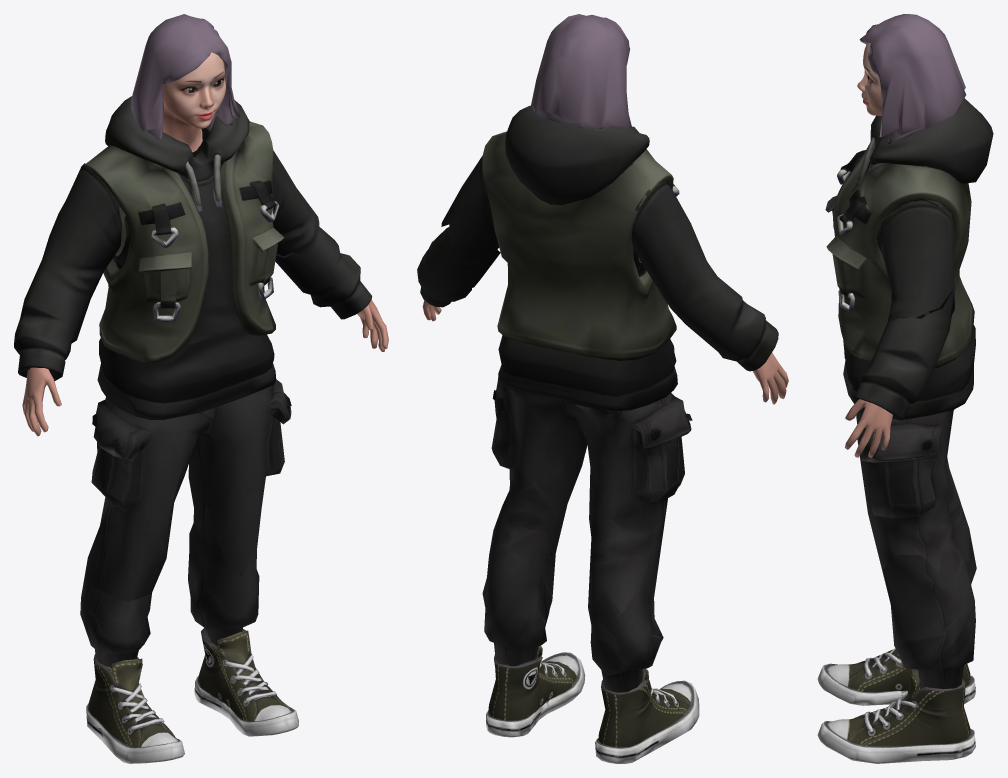
The model's file is BrokenAvatar.fbx.
The picture shows the model from 3 angles, left to right: view 1: azimuth 30°, elevation 25°; view 2: azimuth 150°, elevation 25°; view 3: azimuth 270°, elevation 25°; orthographic projection.
Parts seen in each view (by area): view 1: Wolf3D_Avatar.004, Wolf3D_Avatar.007, Wolf3D_Avatar.010, Wolf3D_Avatar.014, Wolf3D_Avatar.011, Wolf3D_Avatar.003, Wolf3D_Avatar.001, Wolf3D_Avatar.002, Wolf3D_Avatar.012, Wolf3D_Avatar.008, Wolf3D_Avatar.013, Wolf3D_Avatar.009 (+2 smaller); view 2: Wolf3D_Avatar.004, Wolf3D_Avatar.007, Wolf3D_Avatar.010, Wolf3D_Avatar.014, Wolf3D_Avatar.003, Wolf3D_Avatar.011, Wolf3D_Avatar.012, Wolf3D_Avatar.002, Wolf3D_Avatar.001, Wolf3D_Avatar.013, Wolf3D_Avatar.008, Wolf3D_Avatar.009 (+1 smaller); view 3: Wolf3D_Avatar.004, Wolf3D_Avatar.014, Wolf3D_Avatar.003, Wolf3D_Avatar.012, Wolf3D_Avatar.001, Wolf3D_Avatar.009, Wolf3D_Avatar.008, Wolf3D_Avatar.002, Wolf3D_Avatar.011, Wolf3D_Avatar.005, Wolf3D_Avatar.007.
Boxes of the visible parts, left/top/right/bottom form: Wolf3D_Avatar.004: left=84, top=96, right=284, bottom=362; Wolf3D_Avatar.007: left=88, top=397, right=212, bottom=601; Wolf3D_Avatar.010: left=14, top=163, right=121, bottom=380; Wolf3D_Avatar.014: left=188, top=379, right=291, bottom=577; Wolf3D_Avatar.011: left=97, top=333, right=276, bottom=420; Wolf3D_Avatar.003: left=130, top=14, right=240, bottom=152; Wolf3D_Avatar.001: left=194, top=628, right=298, bottom=736; Wolf3D_Avatar.002: left=86, top=654, right=184, bottom=763; Wolf3D_Avatar.012: left=188, top=505, right=261, bottom=645; Wolf3D_Avatar.008: left=275, top=226, right=372, bottom=319; Wolf3D_Avatar.013: left=80, top=558, right=151, bottom=668; Wolf3D_Avatar.009: left=272, top=150, right=319, bottom=256; Wolf3D_Avatar.004: left=482, top=105, right=679, bottom=360; Wolf3D_Avatar.007: left=566, top=393, right=692, bottom=613; Wolf3D_Avatar.010: left=631, top=181, right=778, bottom=371; Wolf3D_Avatar.014: left=491, top=381, right=587, bottom=546; Wolf3D_Avatar.003: left=531, top=14, right=631, bottom=128; Wolf3D_Avatar.011: left=498, top=335, right=677, bottom=411; Wolf3D_Avatar.012: left=482, top=505, right=567, bottom=666; Wolf3D_Avatar.002: left=595, top=668, right=699, bottom=763; Wolf3D_Avatar.001: left=486, top=645, right=585, bottom=737; Wolf3D_Avatar.013: left=588, top=589, right=663, bottom=692; Wolf3D_Avatar.008: left=417, top=227, right=500, bottom=307; Wolf3D_Avatar.009: left=441, top=156, right=499, bottom=262; Wolf3D_Avatar.004: left=825, top=98, right=993, bottom=368; Wolf3D_Avatar.014: left=857, top=409, right=958, bottom=596; Wolf3D_Avatar.003: left=857, top=14, right=966, bottom=143; Wolf3D_Avatar.012: left=883, top=545, right=975, bottom=689; Wolf3D_Avatar.001: left=817, top=669, right=975, bottom=763; Wolf3D_Avatar.009: left=878, top=199, right=955, bottom=322; Wolf3D_Avatar.008: left=853, top=290, right=953, bottom=420; Wolf3D_Avatar.002: left=817, top=648, right=975, bottom=705; Wolf3D_Avatar.011: left=843, top=325, right=975, bottom=419; Wolf3D_Avatar.005: left=845, top=399, right=892, bottom=457; Wolf3D_Avatar.007: left=856, top=411, right=969, bottom=561.
Bounding box in the file's own units: 92.79 × 177 × 39.94.
